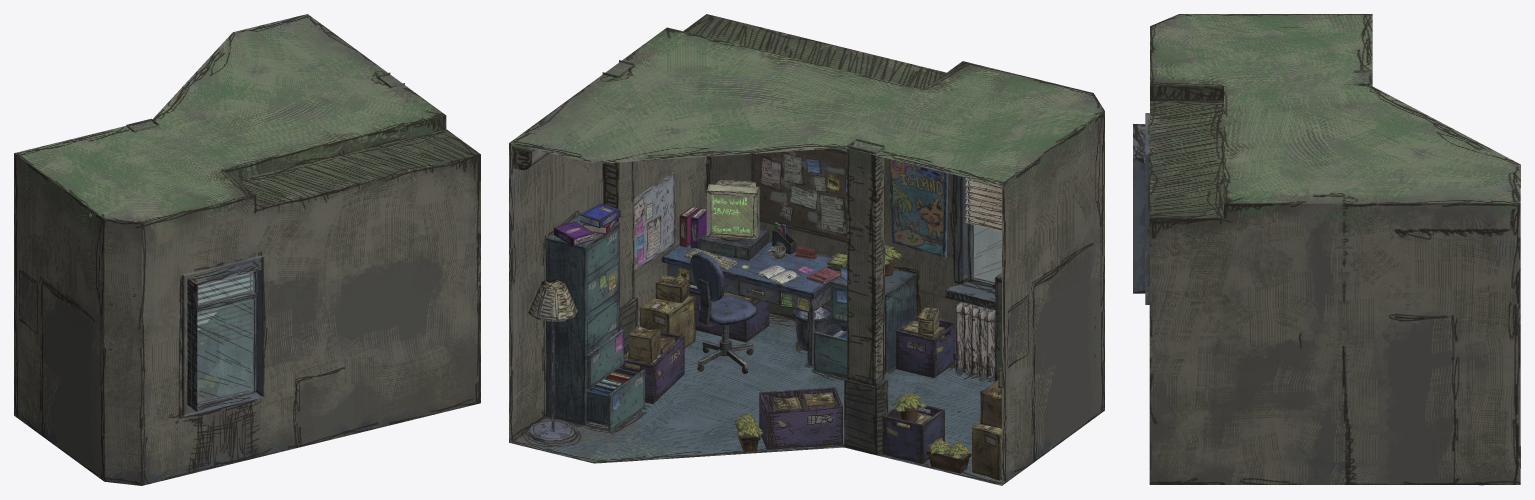
The model's file is Dream_office.glb.
The picture shows the model from 3 angles, left to right: view 1: azimuth 30°, elevation 25°; view 2: azimuth 150°, elevation 25°; view 3: azimuth 270°, elevation 25°; orthographic projection. The views are drawn at different scales.
Parts seen in each view (by area): view 1: Room, Window, Boxes; view 2: Room, Boxes, Window; view 3: Room.
Part boxes in pixels (x1=…): Room: x1=14, y1=14, x2=480, y2=485; Window: x1=74, y1=67, x2=284, y2=407; Boxes: x1=189, y1=263, x2=258, y2=379; Room: x1=509, y1=14, x2=1104, y2=485; Boxes: x1=546, y1=148, x2=1001, y2=480; Window: x1=528, y1=109, x2=1017, y2=473; Room: x1=1133, y1=14, x2=1520, y2=484.
Size of the model in its own units: 4.87 by 3.39 by 4.18.
Materials: 3 (3 with a texture image).
